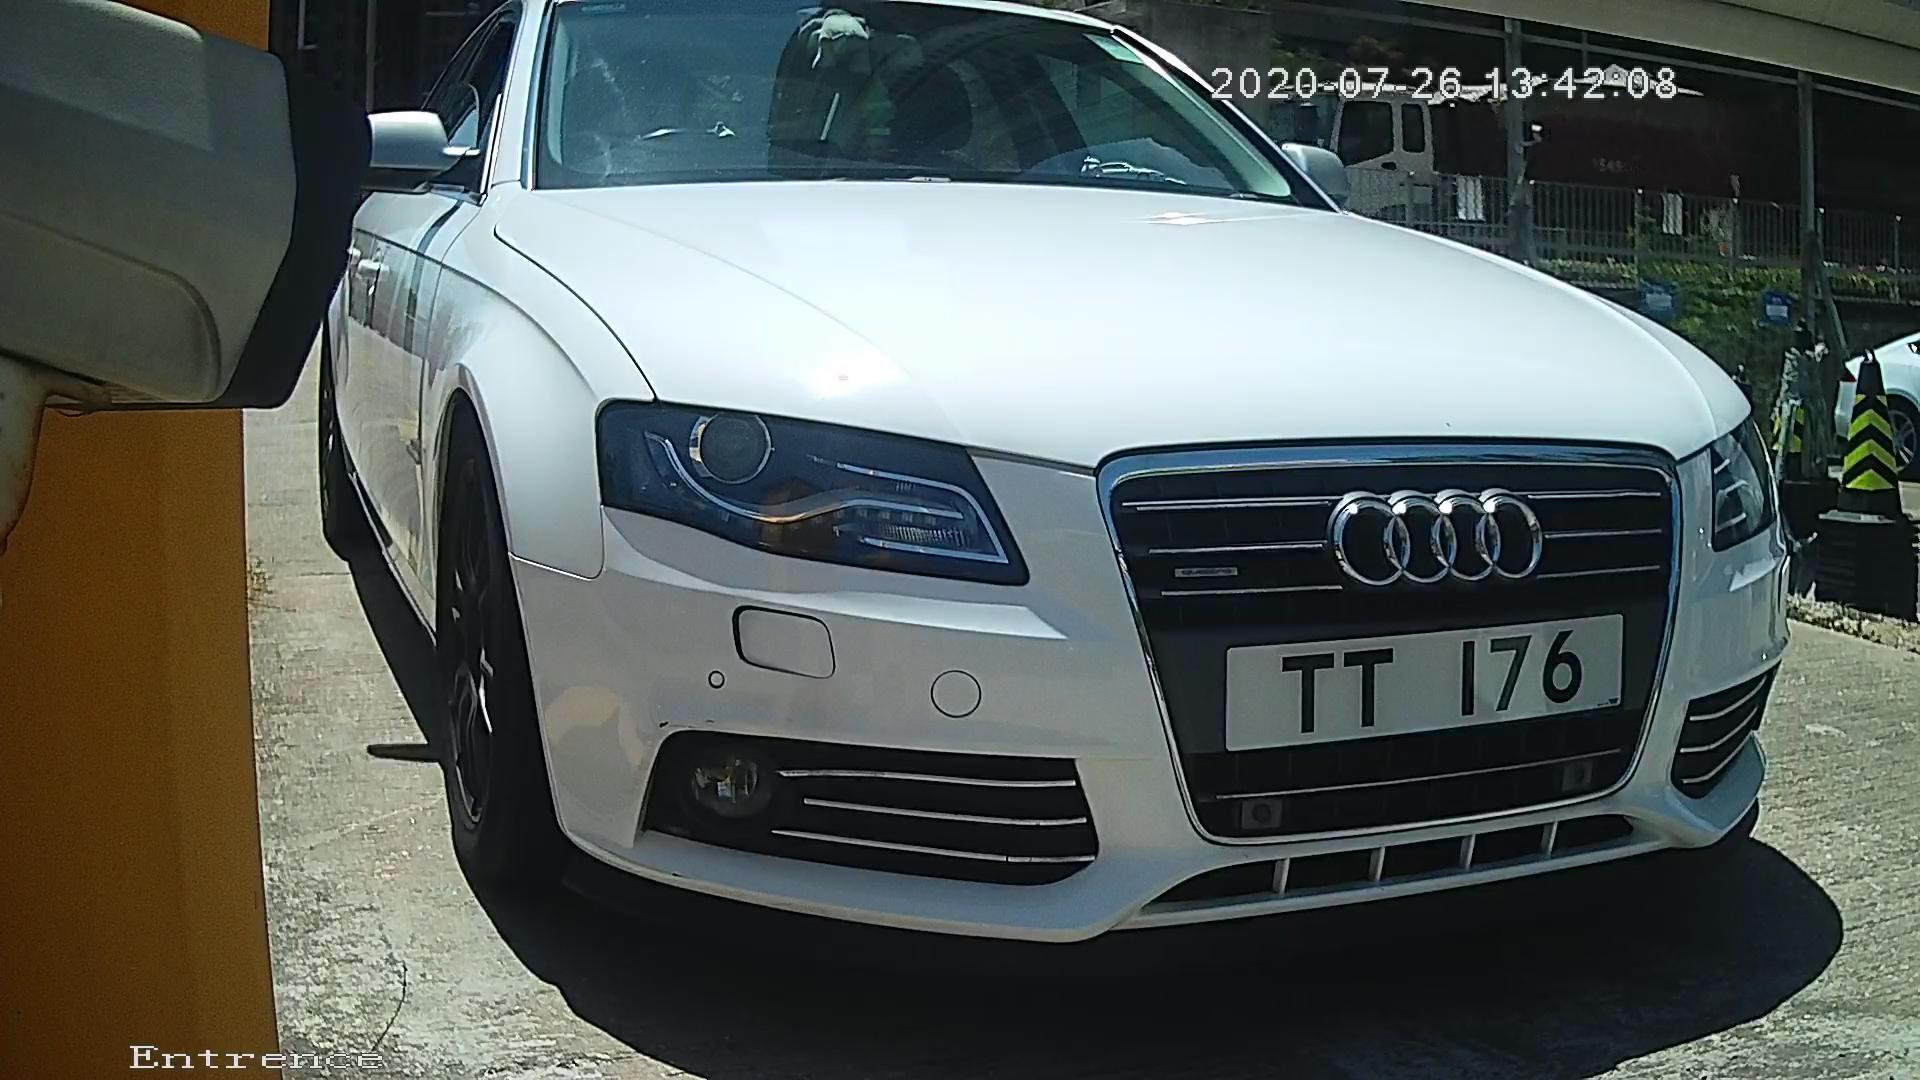privatecar: (266, 15, 1869, 1023)
